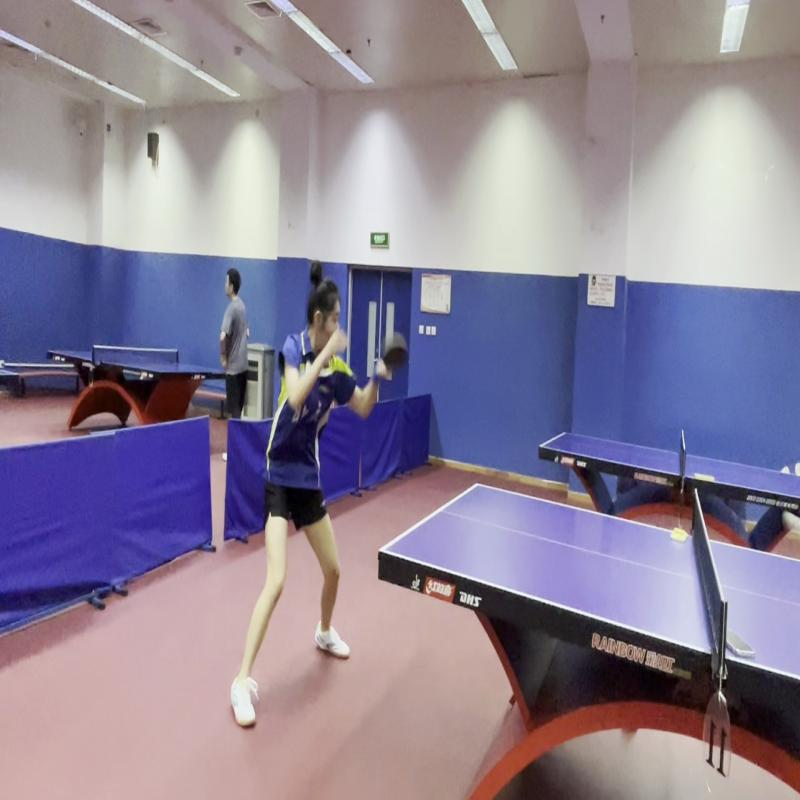bats: (374, 318, 410, 394)
